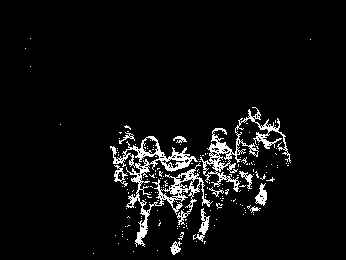person: (192, 125, 239, 245), (162, 133, 202, 255), (133, 135, 168, 247), (254, 114, 292, 207), (109, 122, 144, 217), (233, 103, 264, 192)
